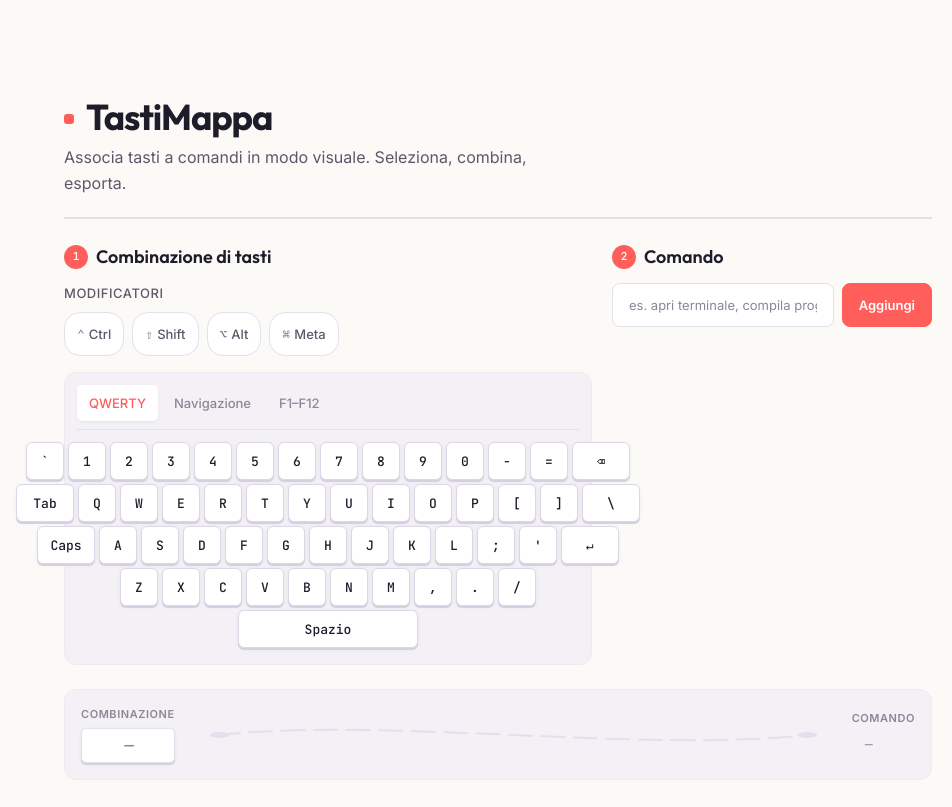
it: TastiMappa › aggiunge una mappatura con modificatori
The width and height of the screenshot is (952, 807).
Click the button "⌃ Ctrl" at (94, 334), box [64,312,124,356]
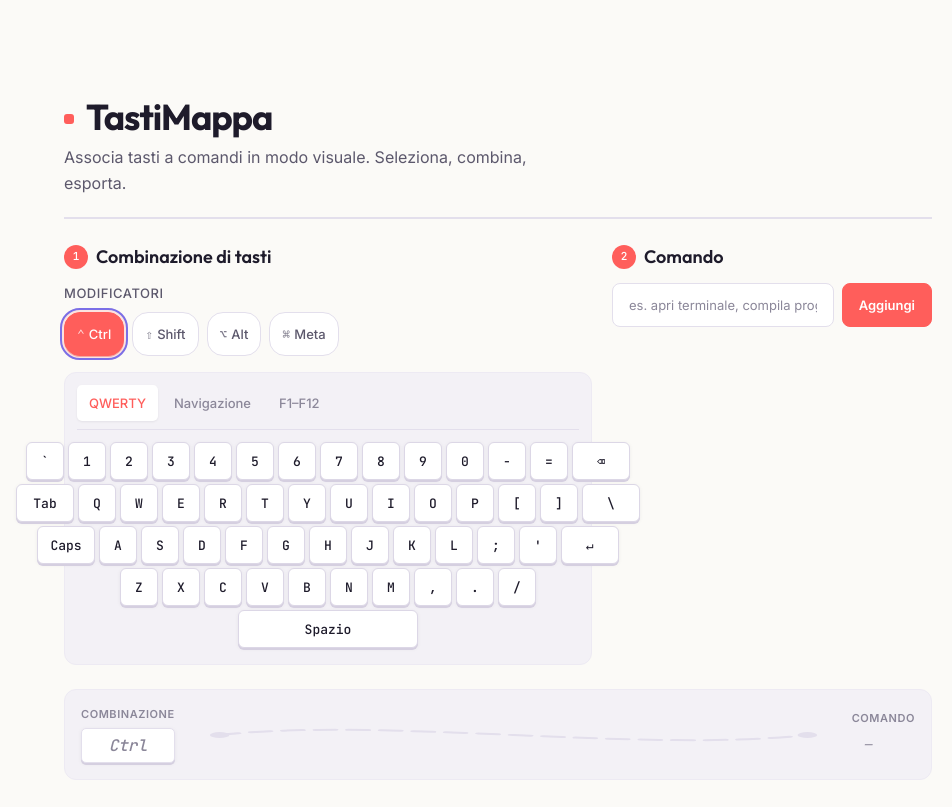
Click the button "A" at (118, 545), box [99,526,137,564]
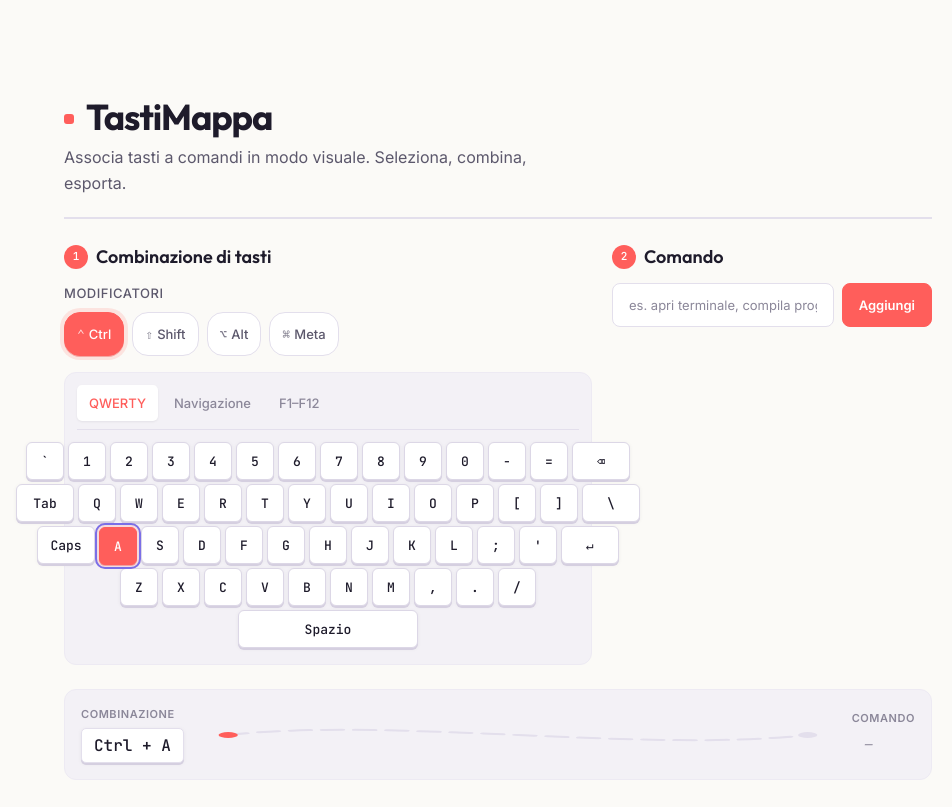
Type "seleziona tutto" into the field with placeholder "es. apri terminale, compila progetto, git push…" at (723, 305), box [612,283,834,327]
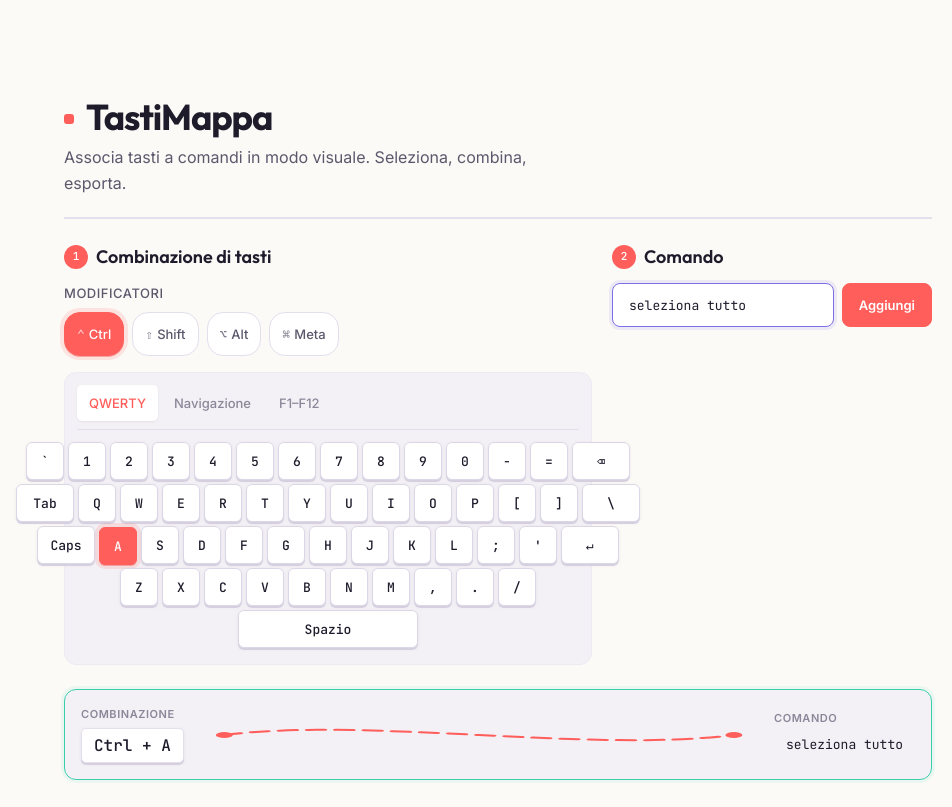
Click the button "Aggiungi" at (887, 305), box [842,283,932,327]
(page scrolled)
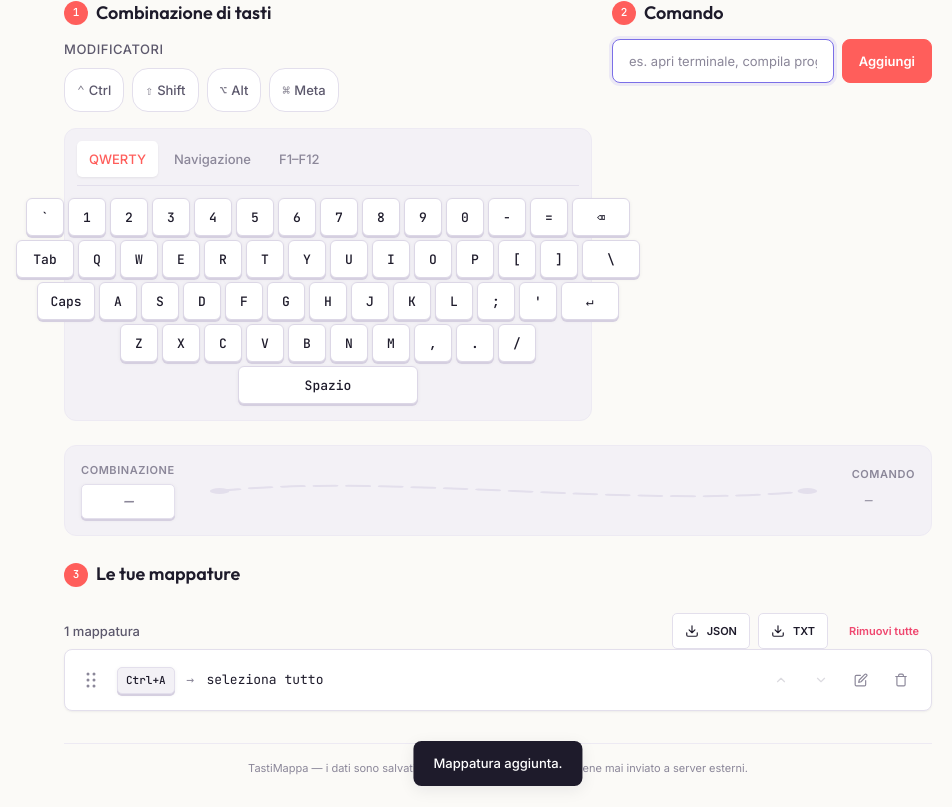
Expected: the text "seleziona tutto" is shown, [206,671,323,688]
Expected: the text "Ctrl+A" is shown, [117,667,175,694]
